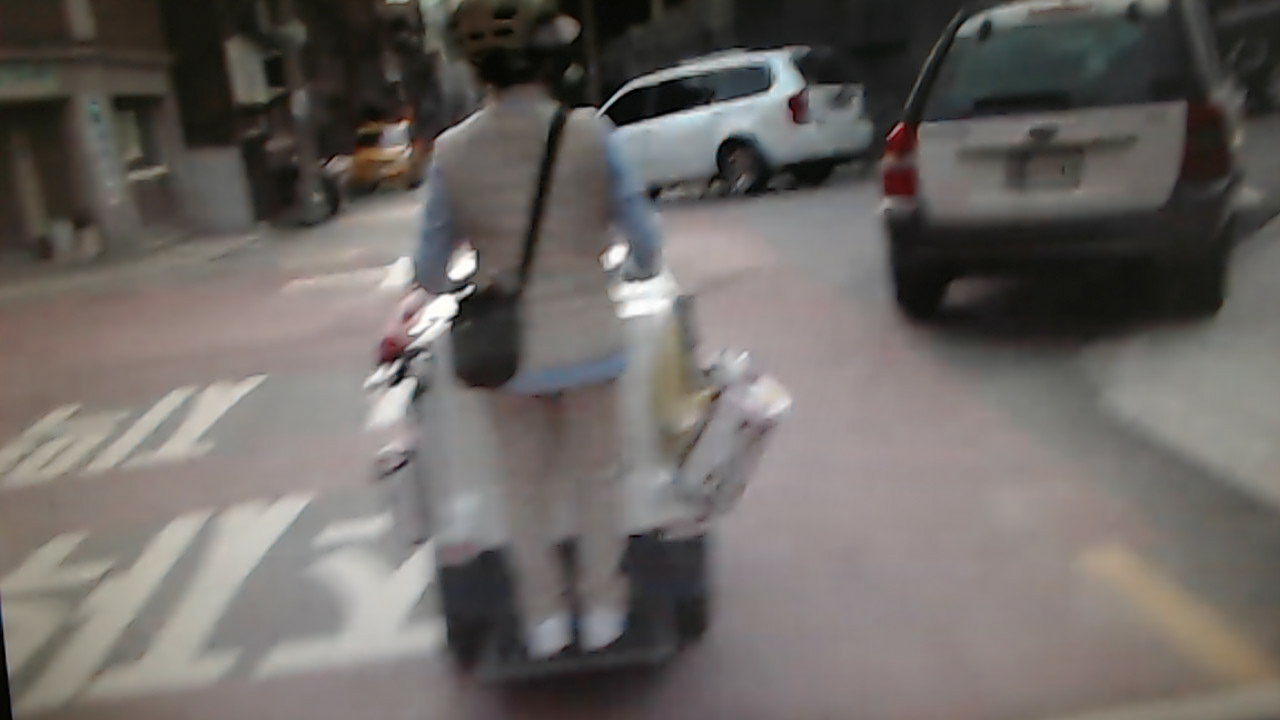Yakurut: (413, 6, 684, 671)
